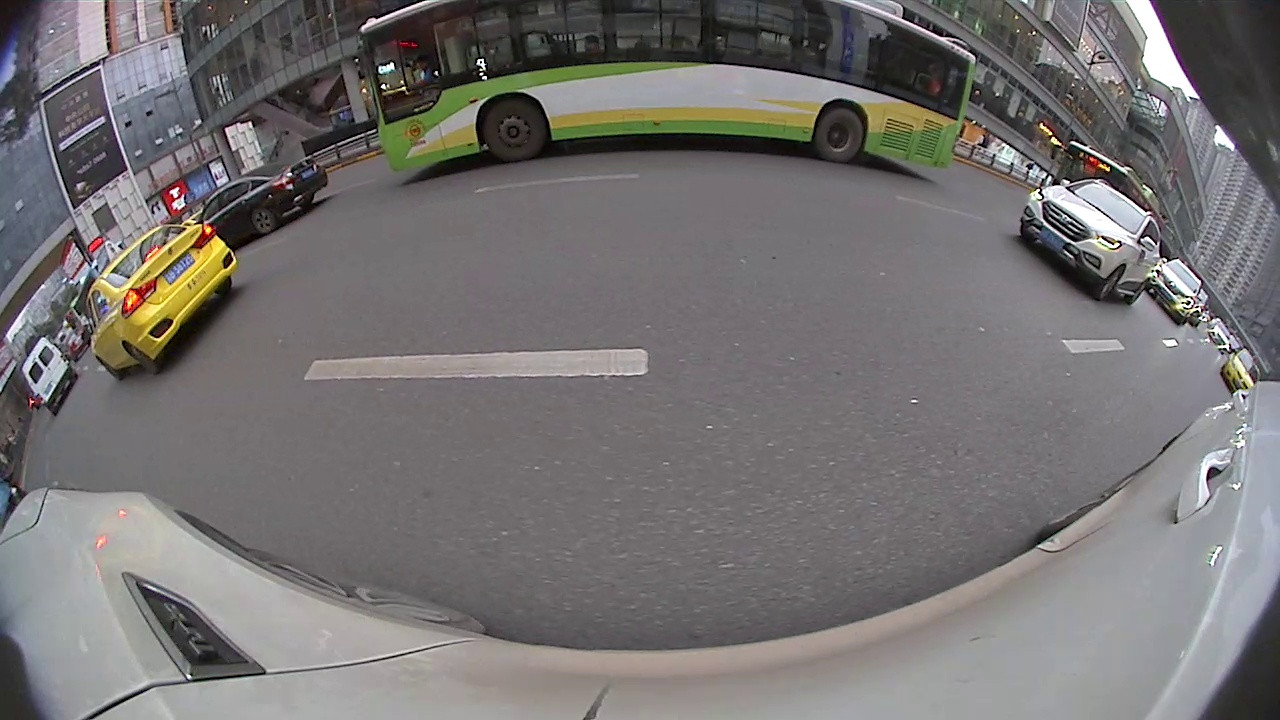bus: (357, 0, 977, 191)
car: (81, 218, 244, 381), (1012, 174, 1164, 311), (197, 158, 329, 249), (1143, 259, 1212, 326), (17, 336, 76, 413)
front: (482, 100, 542, 163), (1094, 266, 1124, 302)
rear: (815, 105, 867, 163), (128, 342, 161, 376), (248, 204, 277, 238)
